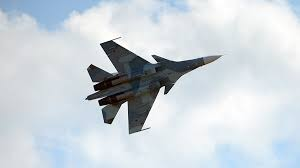fighter: (86, 33, 226, 138)
